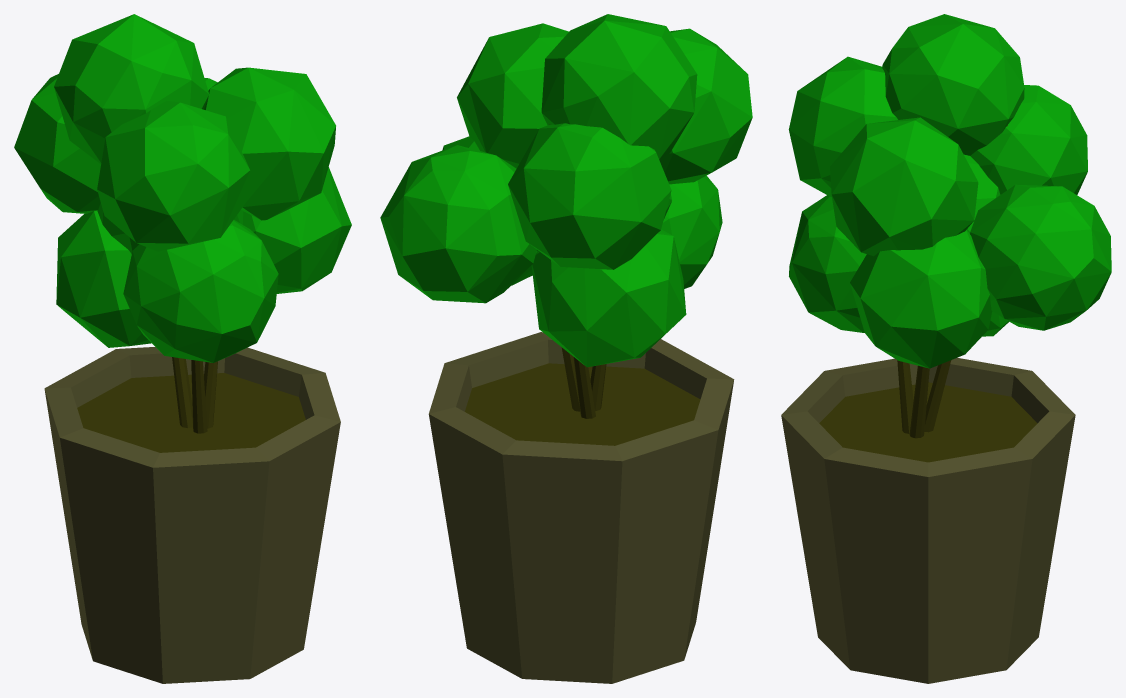
Rendered from Bush.fbx.
3 renders of one model, left to right at view 1: azimuth 30°, elevation 25°; view 2: azimuth 150°, elevation 25°; view 3: azimuth 270°, elevation 25°, orthographic. The views are drawn at different scales.
Visible parts, largest first — view 1: Cylinder; view 2: Cylinder; view 3: Cylinder.
Part boxes in pixels (x1,y1,x2,y2): Cylinder: (14,14,351,683); Cylinder: (380,14,752,683); Cylinder: (781,14,1111,683).
Bounding box in the file's own units: 62.9 × 134 × 67.37.
